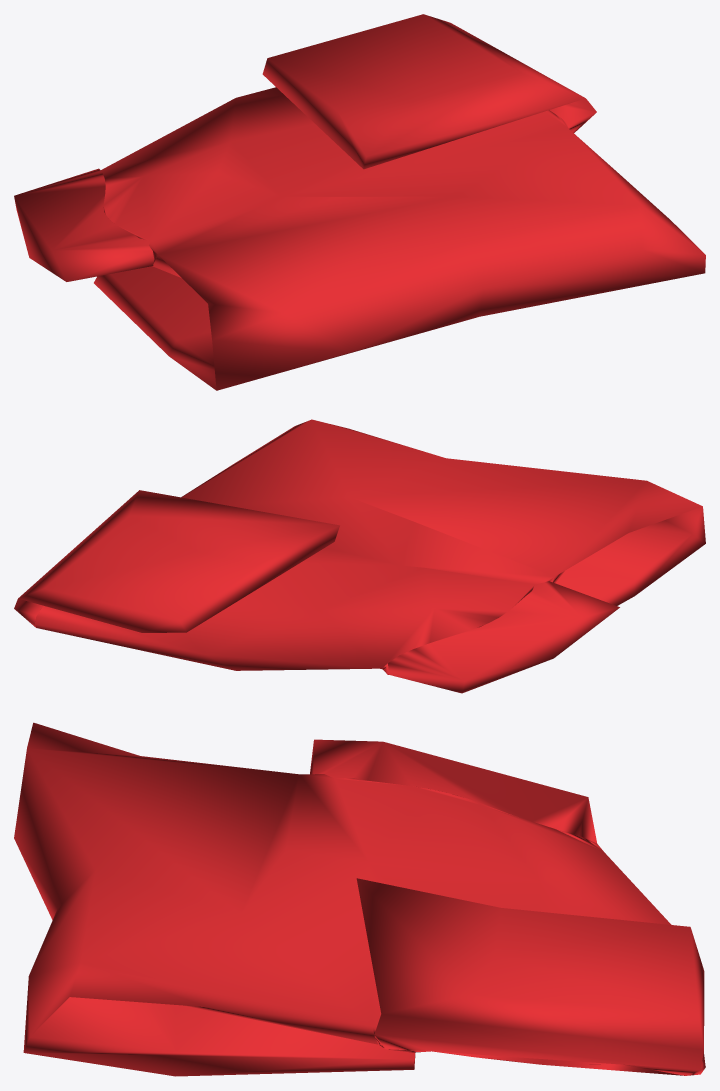
File: MDL_CLRE_unfolded.fbx
The picture shows the model from 3 angles, top to bottom: view 1: azimuth 30°, elevation 25°; view 2: azimuth 150°, elevation 25°; view 3: azimuth 270°, elevation 25°; orthographic projection. The views are drawn at different scales.
Visible parts, largest first — view 1: MDL_CL_unfolded; view 2: MDL_CL_unfolded; view 3: MDL_CL_unfolded.
Part boxes in pixels (box(x1,y1,x2,y2)): MDL_CL_unfolded: box(14, 14, 705, 390); MDL_CL_unfolded: box(14, 419, 705, 693); MDL_CL_unfolded: box(14, 722, 705, 1076).
Size of the model in its own units: 87.54 by 12.01 by 81.66.
